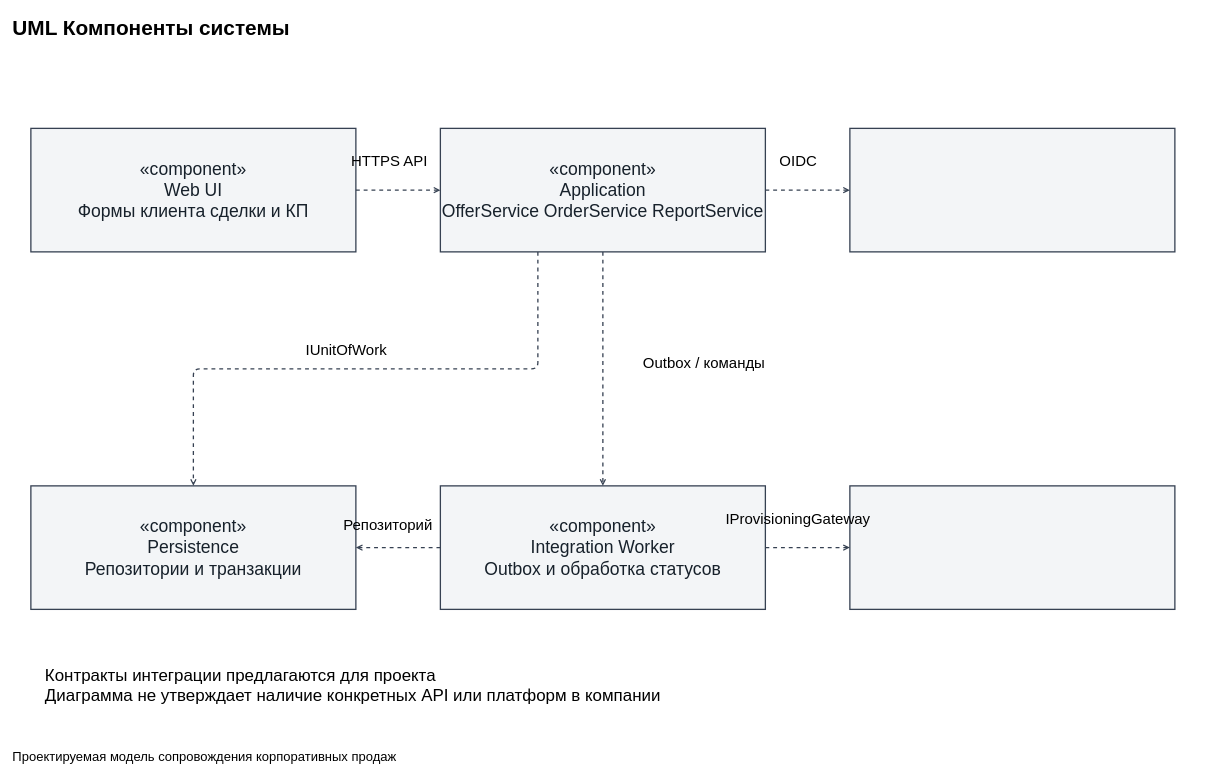
Some shapes in this 1205 by 776 pixel diagram are drawn without their labels. Each missing label, with the centre of its shape:
"«component» Identity Provider Корпоративный вход" belongs at (1012,189).
"«component» Внешняя система подключения Приём заказов и статусы" belongs at (1012,547).
